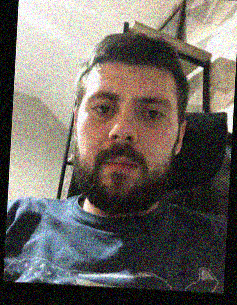without_mask: (72, 90, 180, 203)
